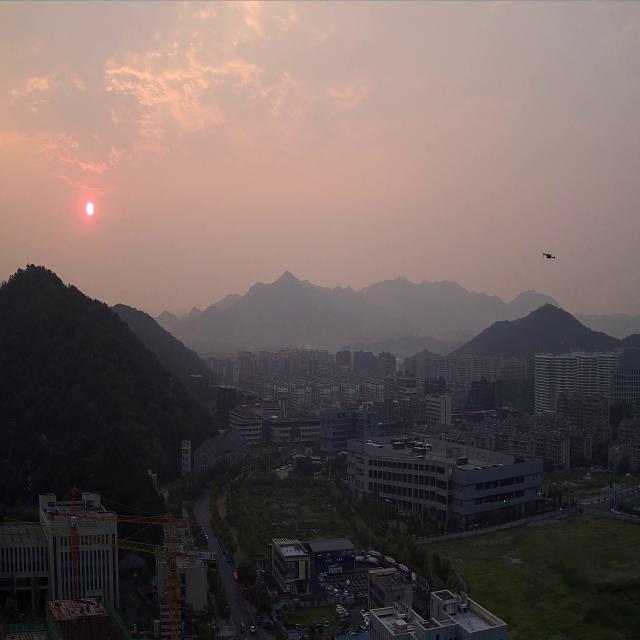UAV: (542, 252, 556, 259)
